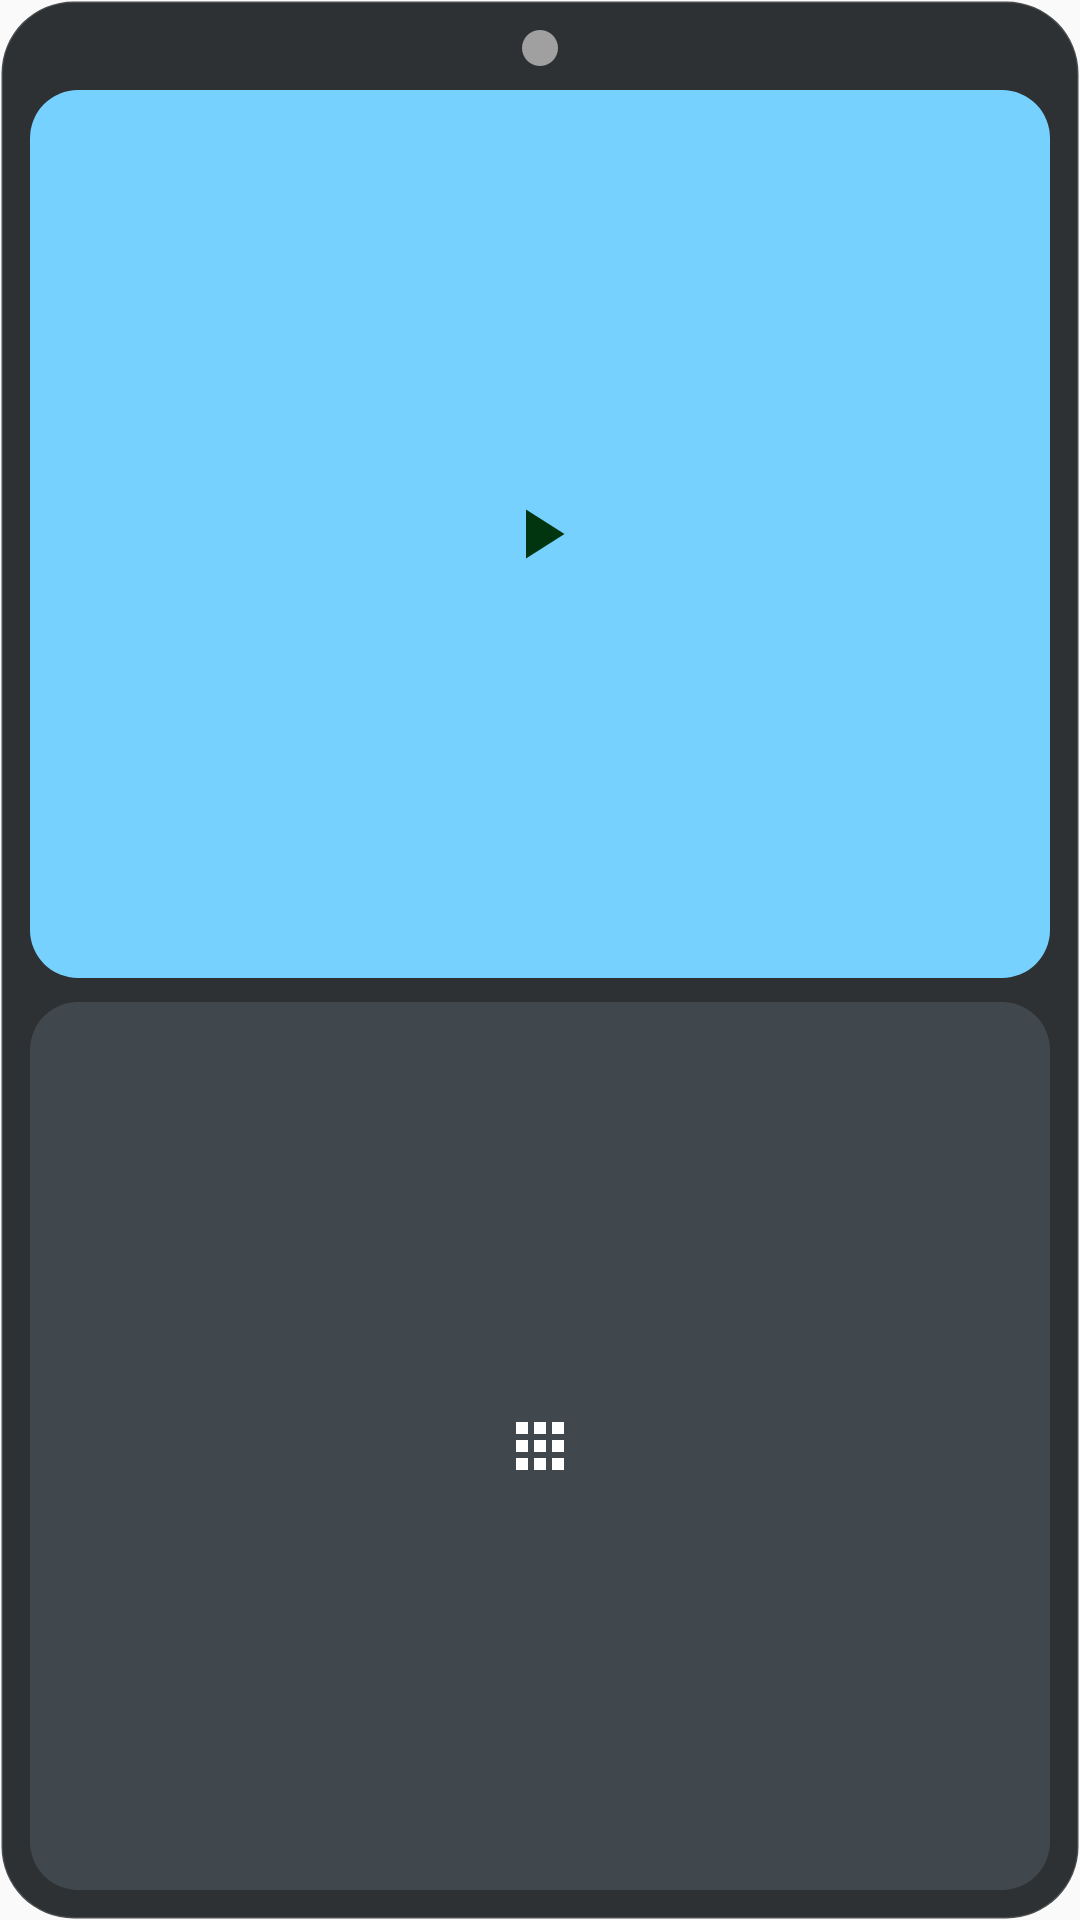

Point at icon controls on the screen. Image size 1080 x 1920, points as [x,y].
Toggle Server: [545,534]
